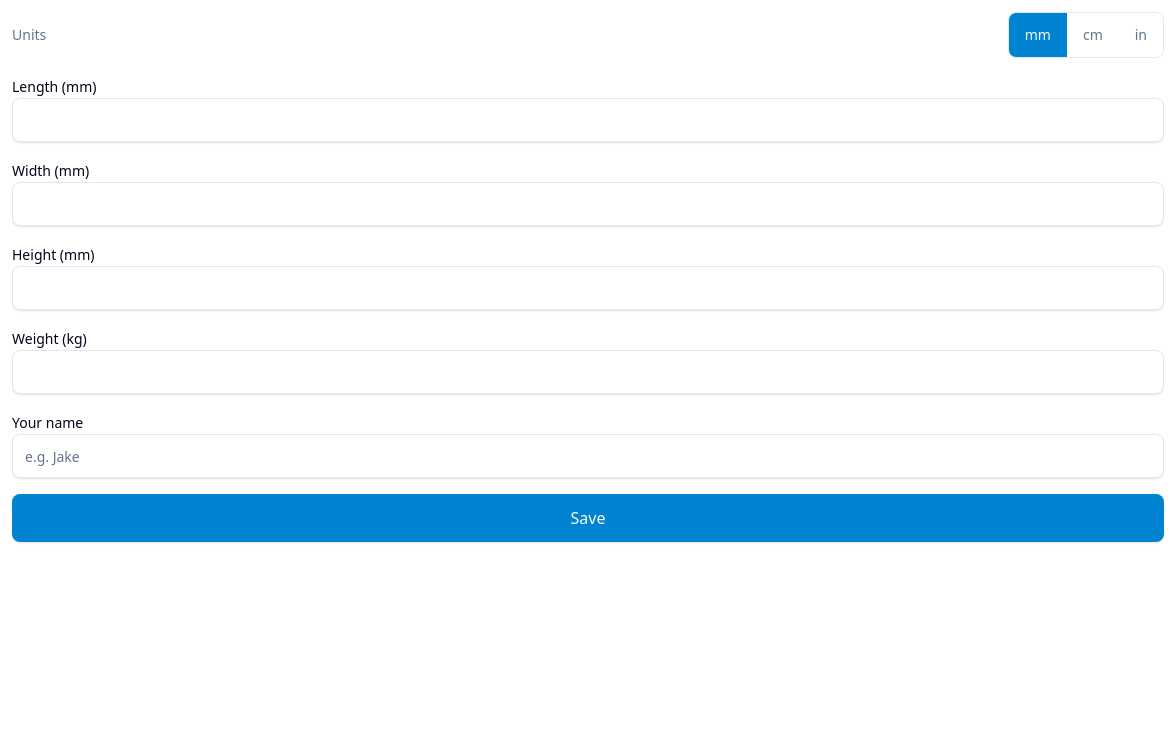
Test: DimForm › converts displayed values when the unit toggle changes (mm → cm)
In the number field labelled "Length (mm)": (588, 120) top-left (12, 98), bottom-right (1164, 142), type "300"
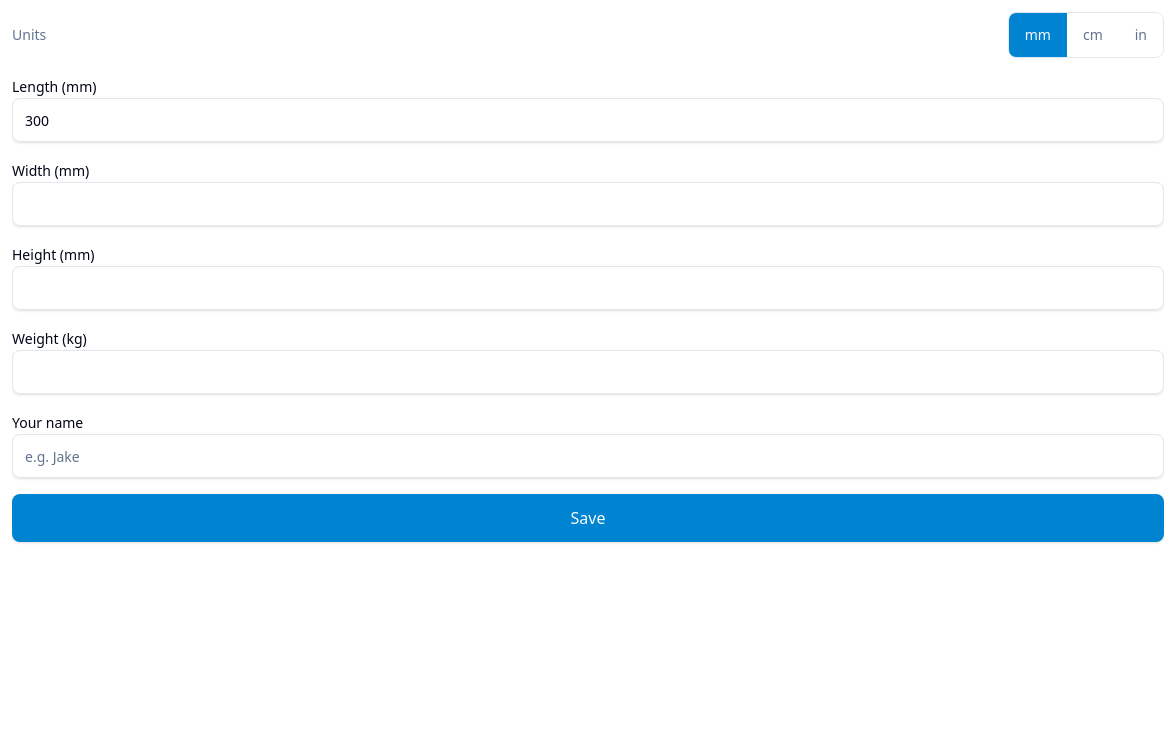
Click the button "cm": (1093, 35) top-left (1067, 13), bottom-right (1119, 57)
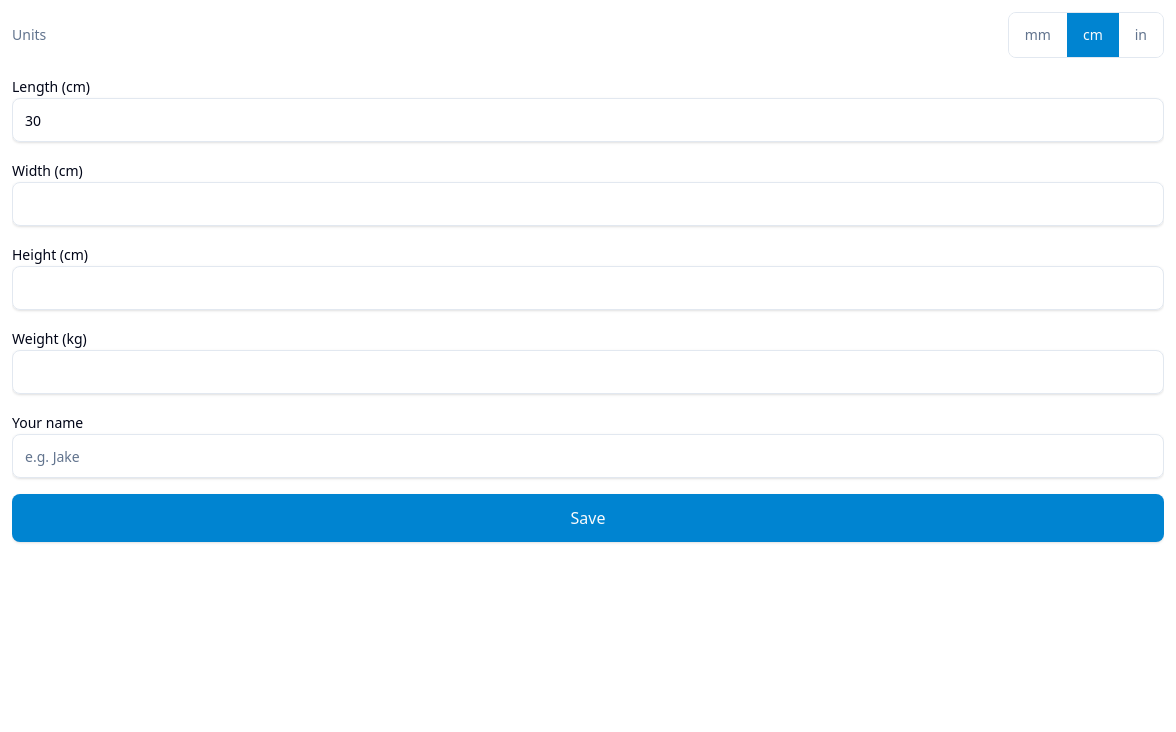
Now the number field labelled "Length (cm)" holds "30", box top-left (12, 98), bottom-right (1164, 142)
